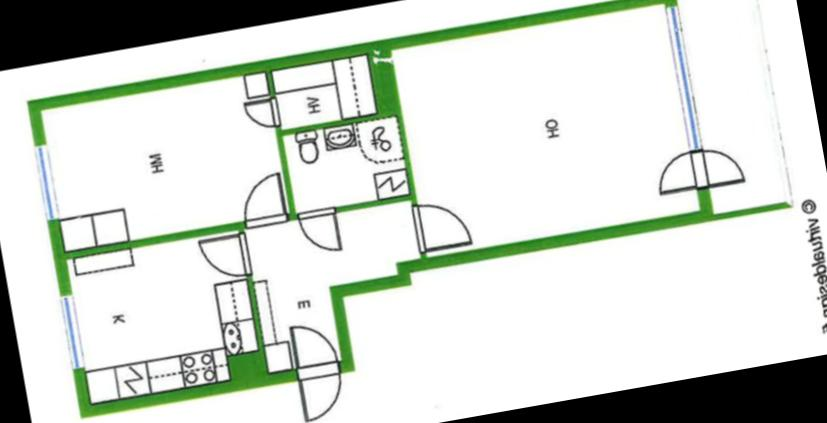door: (405, 193, 475, 255), (284, 316, 343, 377), (235, 168, 292, 229), (292, 361, 347, 423), (194, 229, 253, 284), (687, 140, 746, 194), (648, 146, 707, 198), (296, 204, 346, 256), (239, 94, 282, 134)
window: (660, 0, 705, 152), (54, 289, 88, 372), (30, 138, 62, 224)
